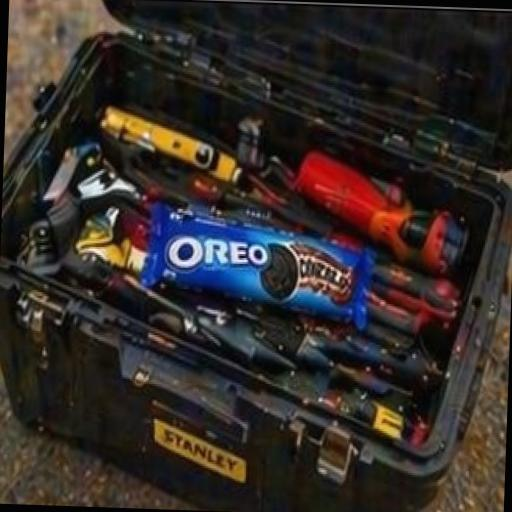oreo: (114, 138, 396, 376)
